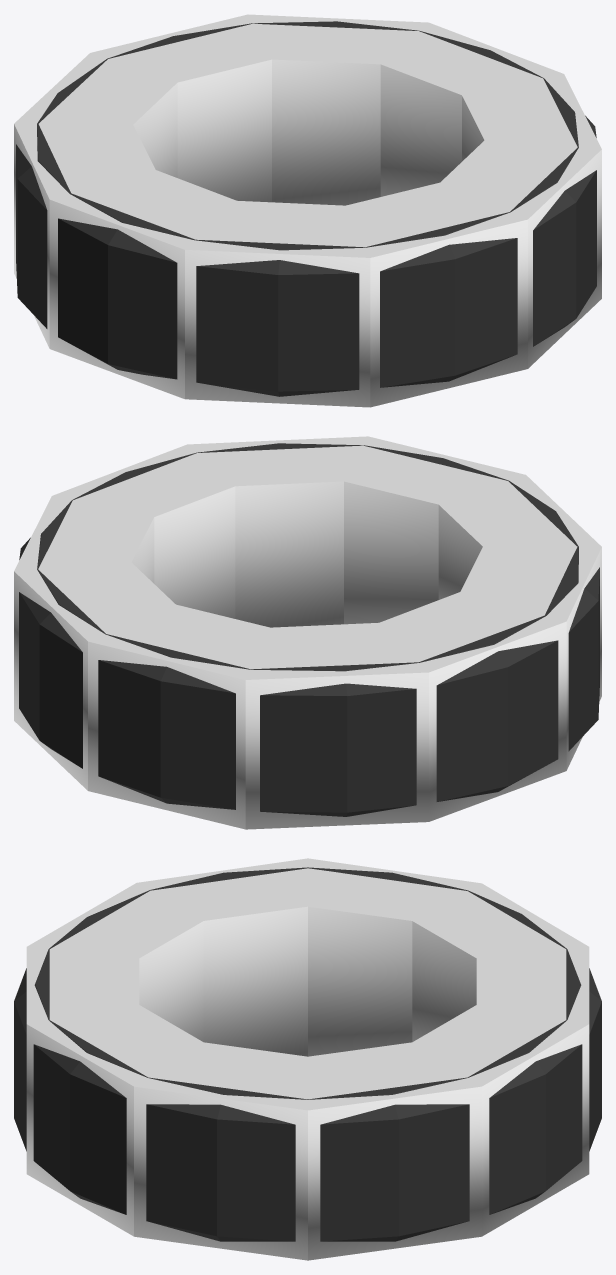
Rendered from model_old_tyre.fbx.
3 views of the same model, one above another, from view 1: azimuth 30°, elevation 25°; view 2: azimuth 150°, elevation 25°; view 3: azimuth 270°, elevation 25° (orthographic).
Visible parts, largest first — view 1: model_old_tyre_col, model_old_tyre; view 2: model_old_tyre_col, model_old_tyre; view 3: model_old_tyre_col, model_old_tyre.
Part boxes in pixels (x1,y1,x2,y2): model_old_tyre_col: (14,14,601,407); model_old_tyre: (16,21,596,396); model_old_tyre_col: (14,436,601,829); model_old_tyre: (19,443,599,816); model_old_tyre_col: (26,858,589,1260); model_old_tyre: (14,867,601,1241).
Bounding box in the file's own units: 94.9 × 27.09 × 93.53.
Materials: 2 (1 with a texture image).
